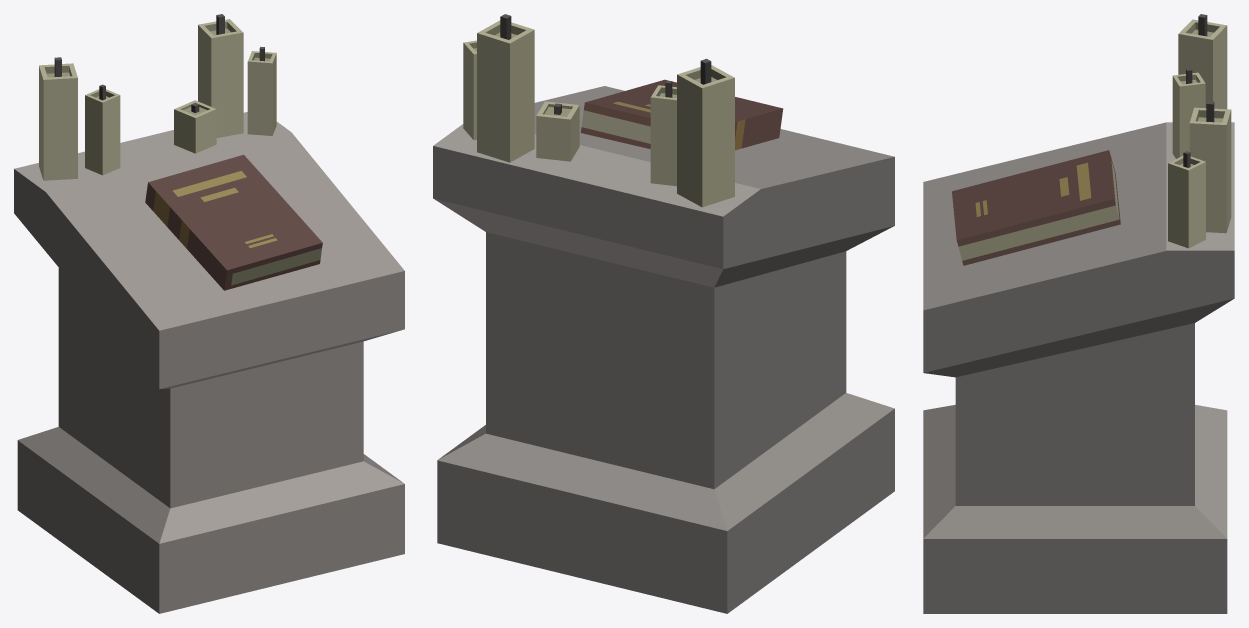
The model's file is SD_Env_Alter_Good_01.fbx.
The picture shows the model from 3 angles, left to right: view 1: azimuth 30°, elevation 25°; view 2: azimuth 150°, elevation 25°; view 3: azimuth 270°, elevation 25°; orthographic projection. The views are drawn at different scales.
Visible parts, largest first — view 1: SD_Env_Alter_Good_01; view 2: SD_Env_Alter_Good_01; view 3: SD_Env_Alter_Good_01.
Part boxes in pixels (x1,y1,x2,y2): SD_Env_Alter_Good_01: [14, 14, 404, 613]; SD_Env_Alter_Good_01: [433, 14, 894, 613]; SD_Env_Alter_Good_01: [923, 14, 1234, 613].
Size of the model in its own units: 1.36 by 2.39 by 1.39.
